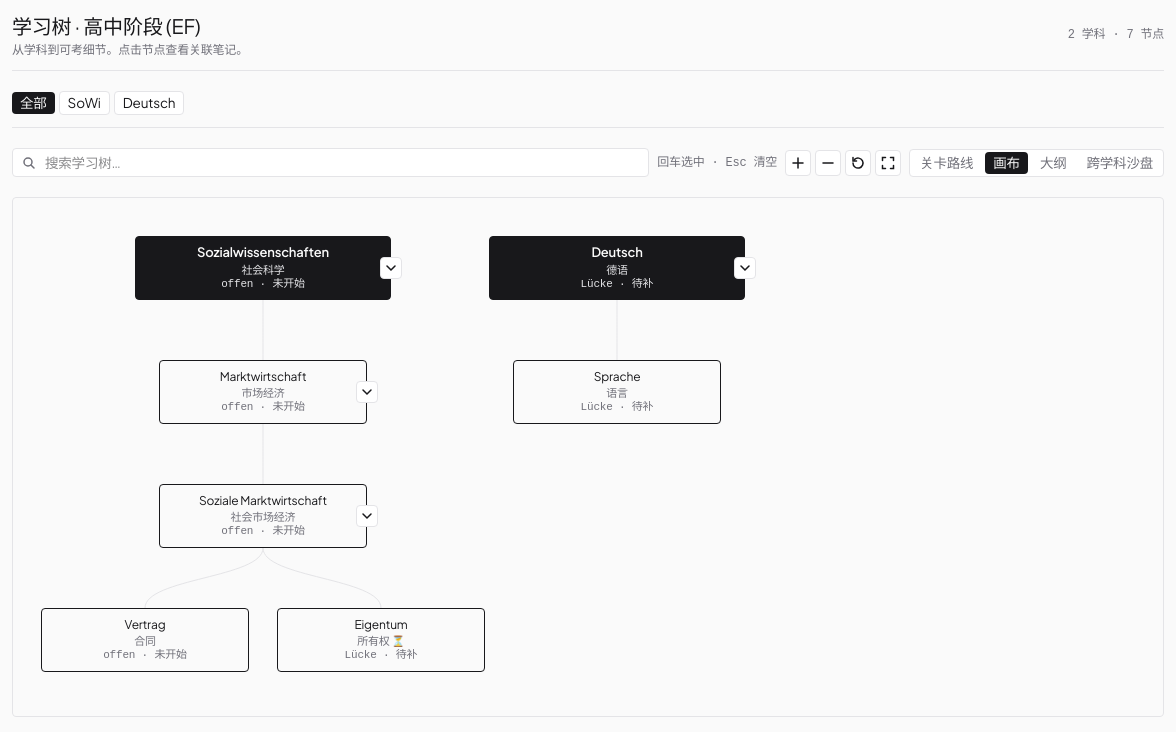
Lernbaum Details › zeigt den Bestätigungs-Hinweis bei unbestätigtem Titel
Click the button "Eigentum 所有权 ⏳ Lücke · 待补" at [381, 640], box [277,608,485,672]
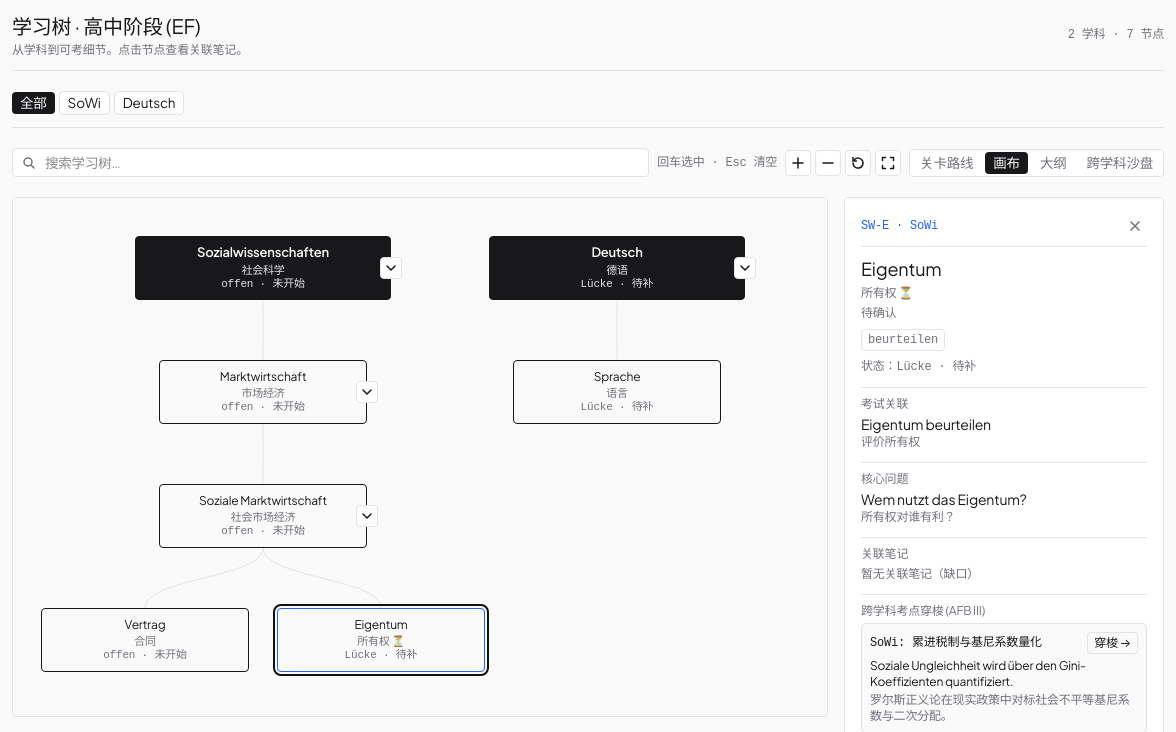
Expected: the text "待确认" is shown, [861,305,896,320]
Expected: the text "状态：Lücke · 待补" is shown, [861,360,976,374]
